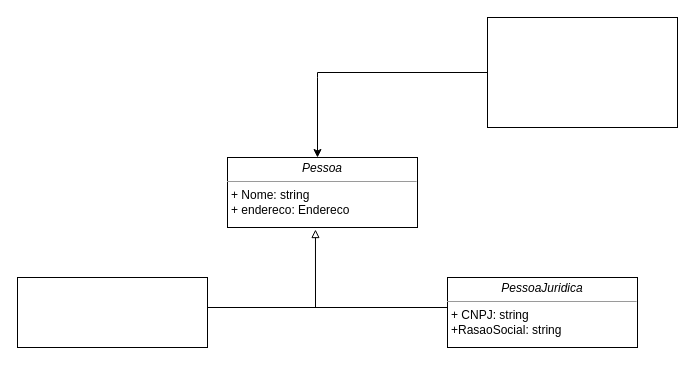
This 695x365 diagram has some shape labels left out. Each missing label, with the centre of its shape:
"Endereco + Logadouro: string + numero: int + cidade: string + complemeto: string" belongs at [582,72].
"PessoaFisica + CPF: string +DataNaci: date" belongs at [112,312].
